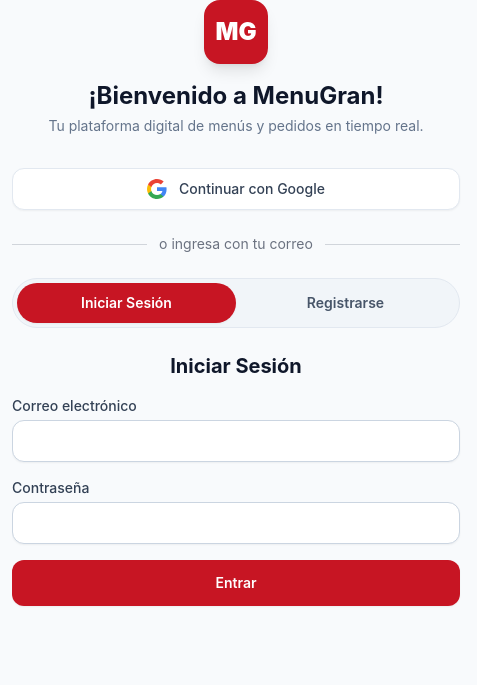
Scenario: AuthForm › muestra mensaje de error claro cuando el inicio con Google falla
Click the button "Continuar con Google" at (236, 189), box [12, 168, 460, 210]
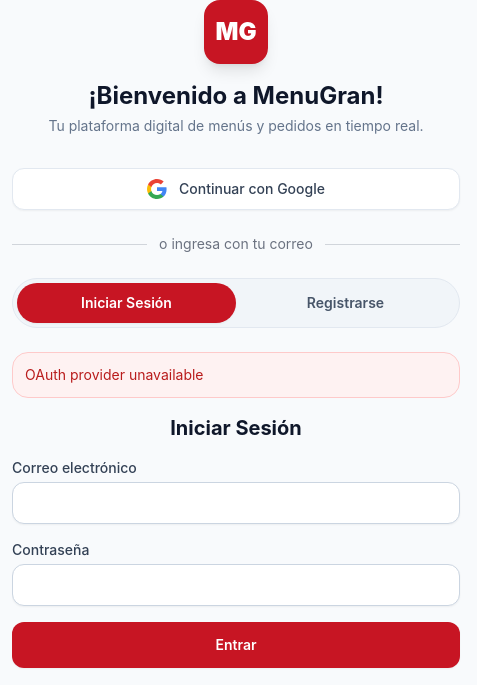
Expected: the text "OAuth provider unavailable" is shown, [12, 352, 460, 398]
